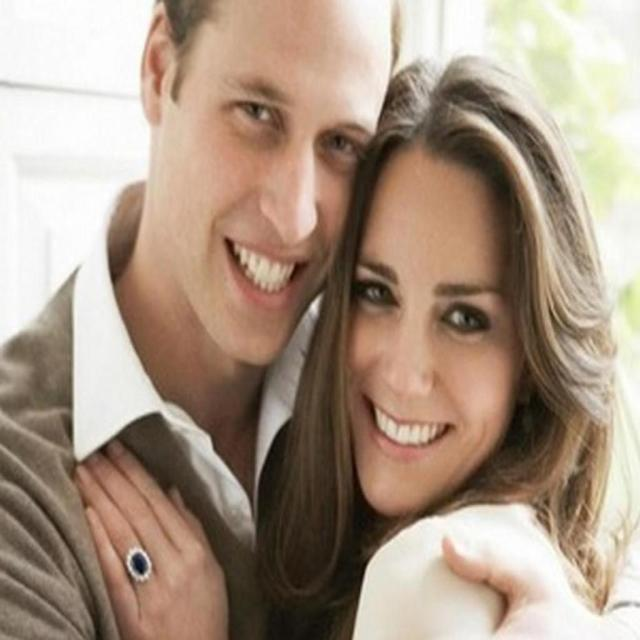Face: (178, 1, 382, 362), (348, 157, 532, 491)
